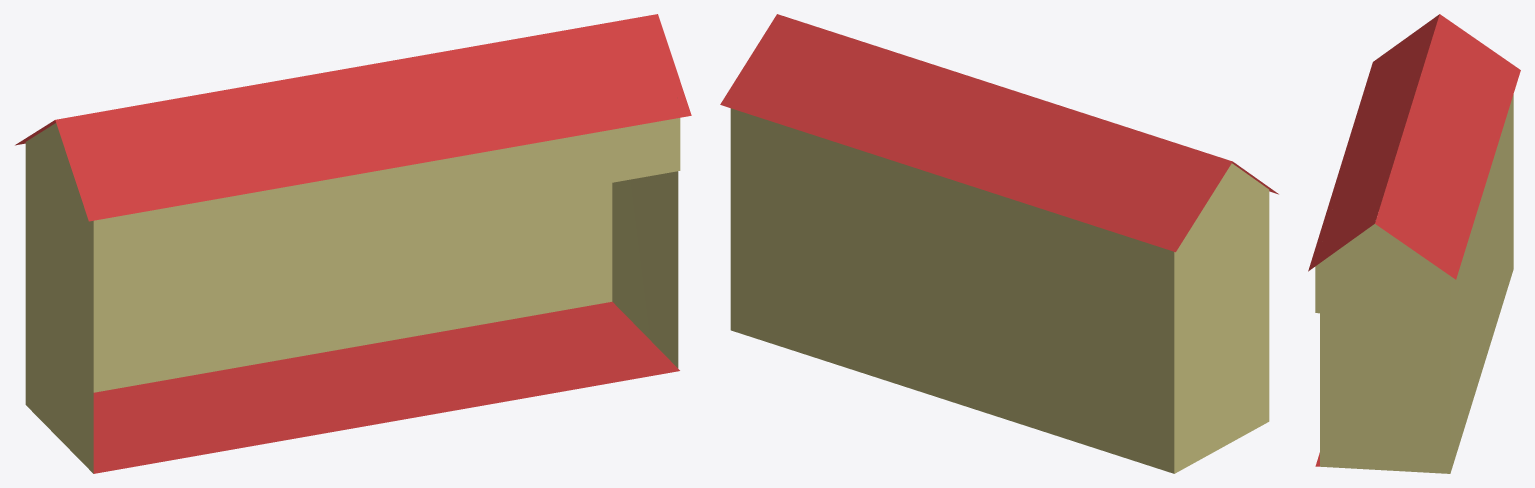
The picture shows the model from 3 angles, left to right: view 1: azimuth 30°, elevation 25°; view 2: azimuth 150°, elevation 25°; view 3: azimuth 270°, elevation 25°; orthographic projection. The views are drawn at different scales.
Bounding box in the file's own units: 19.51 × 8.05 × 10.39.
